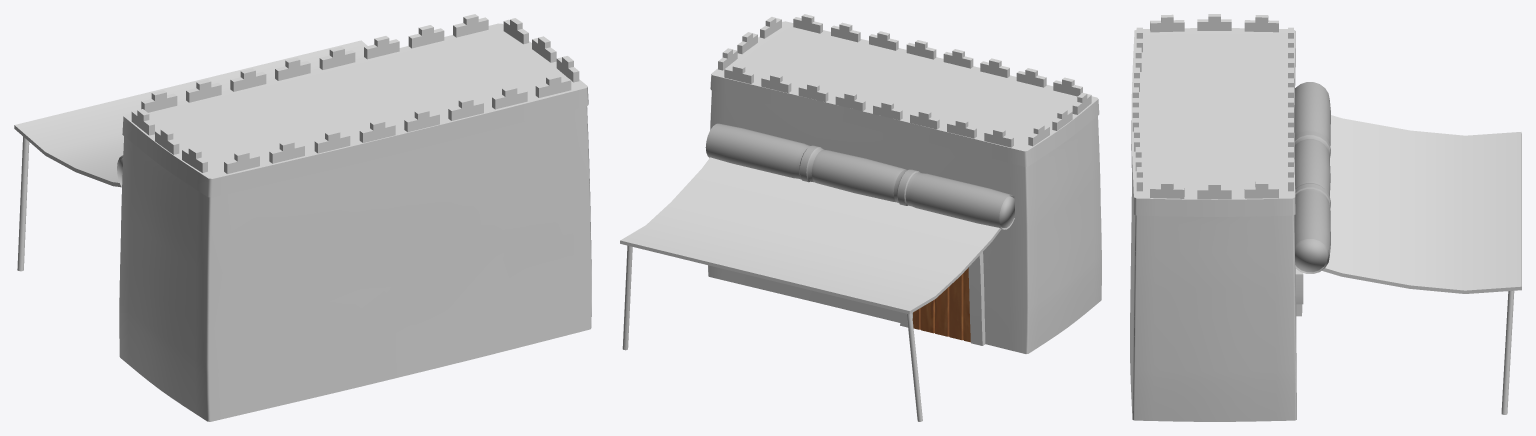
File: Najdi_Base_C01.fbx
The picture shows the model from 3 angles, left to right: view 1: azimuth 30°, elevation 25°; view 2: azimuth 150°, elevation 25°; view 3: azimuth 270°, elevation 25°; orthographic projection. The views are drawn at different scales.
Visible parts, largest first — view 1: Najdi_Base_C01, Tanda, Tanda.002; view 2: Najdi_Base_C01, Tanda, Tanda.001, Tanda.002; view 3: Najdi_Base_C01, Tanda, Tanda.001, Tanda.002.
Boxes of the visible parts, <box> form: Najdi_Base_C01: <box>119,14,591,421</box>; Tanda: <box>14,40,367,187</box>; Tanda.002: <box>17,136,29,271</box>; Najdi_Base_C01: <box>708,14,1101,353</box>; Tanda: <box>620,157,1001,314</box>; Tanda.001: <box>705,123,1014,229</box>; Tanda.002: <box>622,245,922,421</box>; Najdi_Base_C01: <box>1130,14,1303,421</box>; Tanda: <box>1320,115,1521,293</box>; Tanda.001: <box>1294,82,1330,273</box>; Tanda.002: <box>1501,290,1514,414</box>.
Size of the model in its own units: 2106 by 1996 by 1325.
